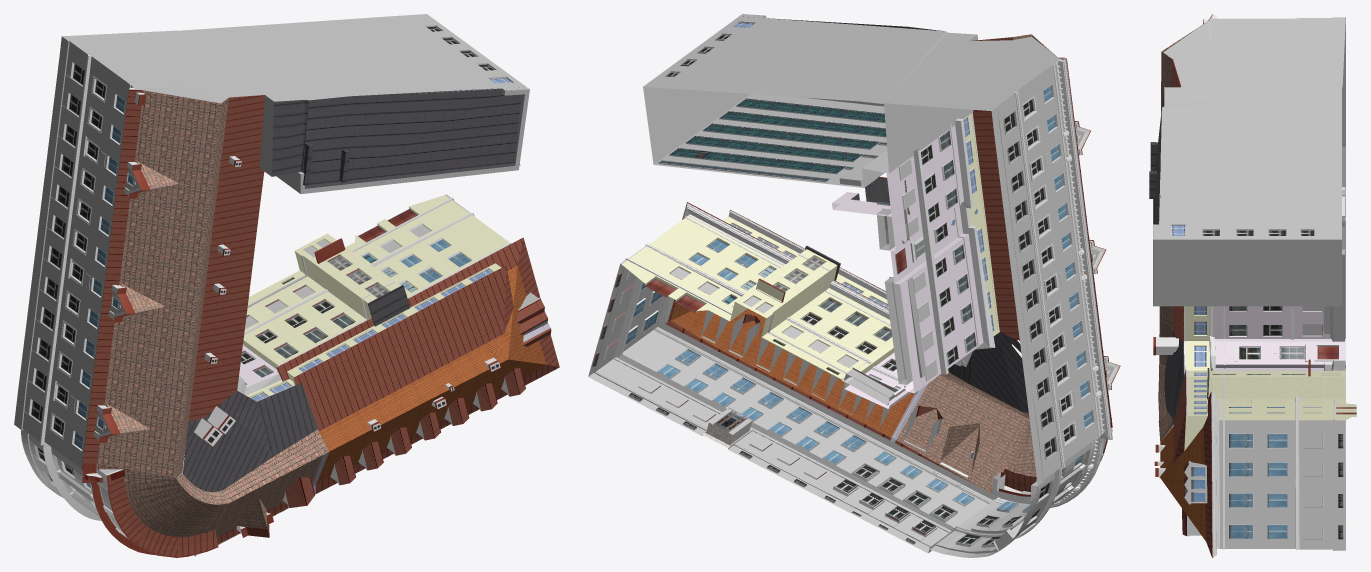
Rendered from Harju_11.obj.
3 renders of one model, left to right at view 1: azimuth 30°, elevation 25°; view 2: azimuth 150°, elevation 25°; view 3: azimuth 270°, elevation 25°, orthographic. The views are drawn at different scales.
Visible parts, largest first — view 1: Harju_11; view 2: Harju_11; view 3: Harju_11.
Boxes of the visible parts, x1,y1,x2,y2 form: Harju_11: (14,14,559,557); Harju_11: (588,14,1120,557); Harju_11: (1149,14,1356,557).
Size of the model in its own units: 51.91 by 50.09 by 21.23.
